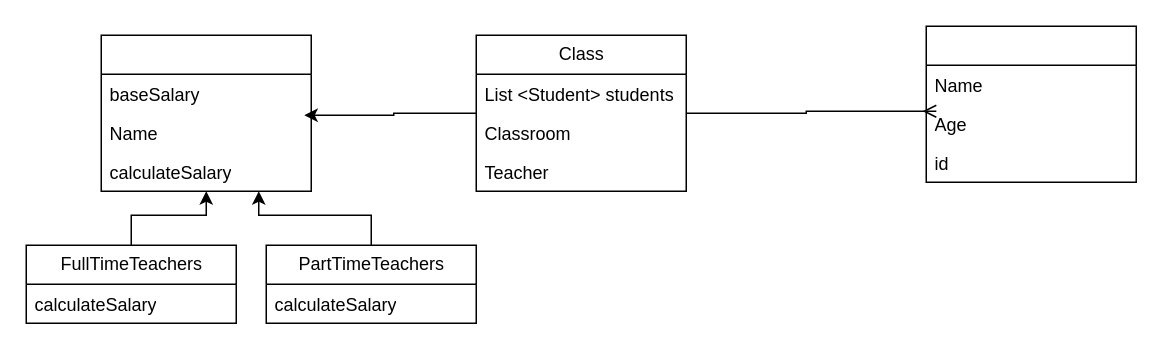
This 1163x354 diagram has some shape labels left out. Here are the shapes that lost their labels. From the top down, the box of each, then its label:
(100, 34, 311, 191): Teaches
(925, 25, 1136, 182): Students
